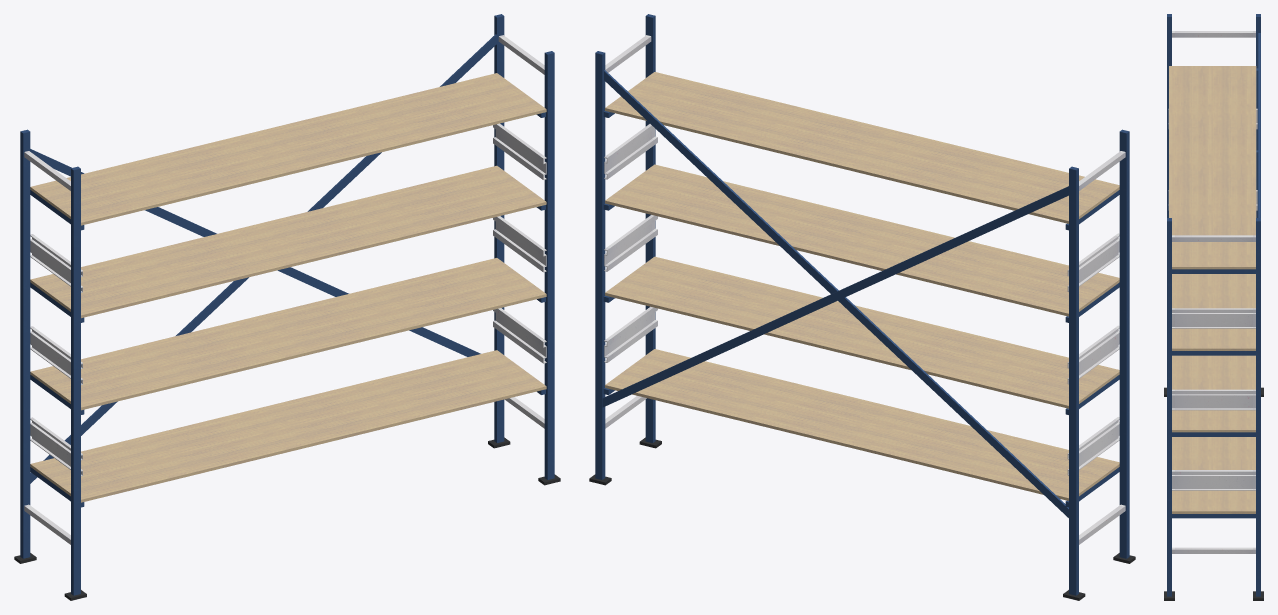
Rendered from BigShelves03.FBX.
3 renders of one model, left to right at view 1: azimuth 30°, elevation 25°; view 2: azimuth 150°, elevation 25°; view 3: azimuth 270°, elevation 25°, orthographic. The views are drawn at different scales.
Parts seen in each view (by area): view 1: BigShelves03; view 2: BigShelves03; view 3: BigShelves03.
Part boxes in pixels (box(x1,y1,x2,y2)): BigShelves03: box(14, 14, 560, 600); BigShelves03: box(589, 14, 1135, 600); BigShelves03: box(1164, 14, 1263, 600).
Bounding box in the file's own units: 355 × 297 × 71.14.
